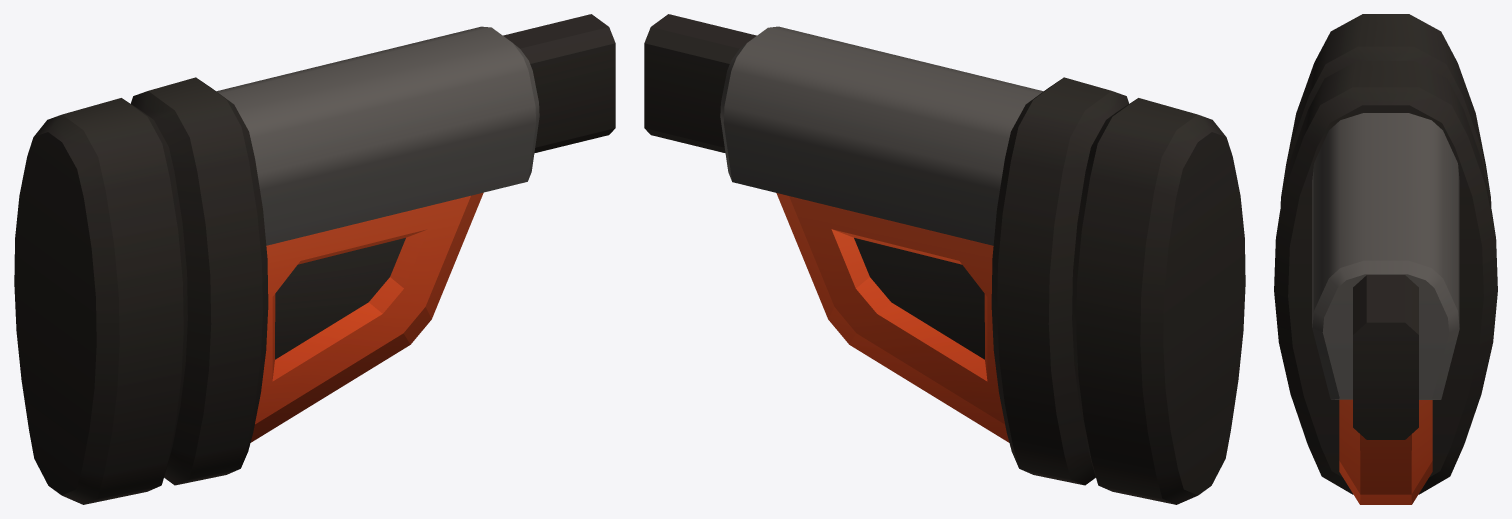
The model's file is MG2_ButtstockLight.fbx.
3 renders of one model, left to right at view 1: azimuth 30°, elevation 25°; view 2: azimuth 150°, elevation 25°; view 3: azimuth 270°, elevation 25°, orthographic. The views are drawn at different scales.
Visible parts, largest first — view 1: MG2_ButtstockLight; view 2: MG2_ButtstockLight; view 3: MG2_ButtstockLight.
Part boxes in pixels (x1,y1,x2,y2): MG2_ButtstockLight: [14, 14, 615, 504]; MG2_ButtstockLight: [644, 14, 1245, 504]; MG2_ButtstockLight: [1274, 14, 1497, 504].
Bounding box in the file's own units: 26.38 × 17.35 × 8.64.
